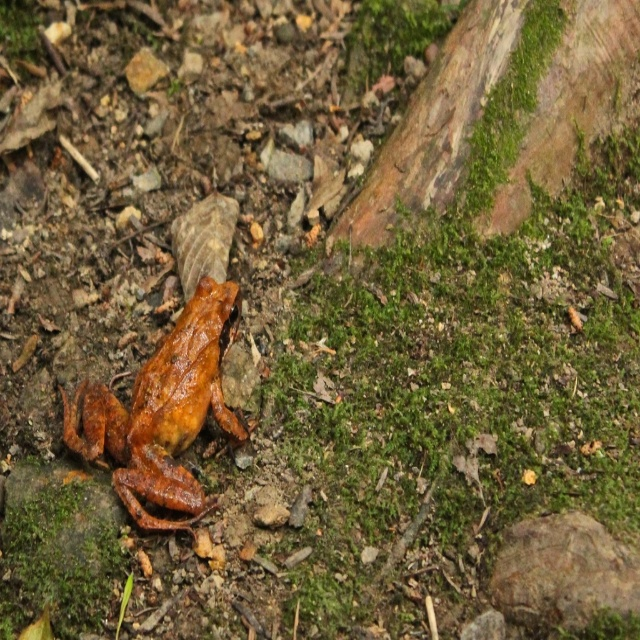Frog: (57, 275, 264, 548)
